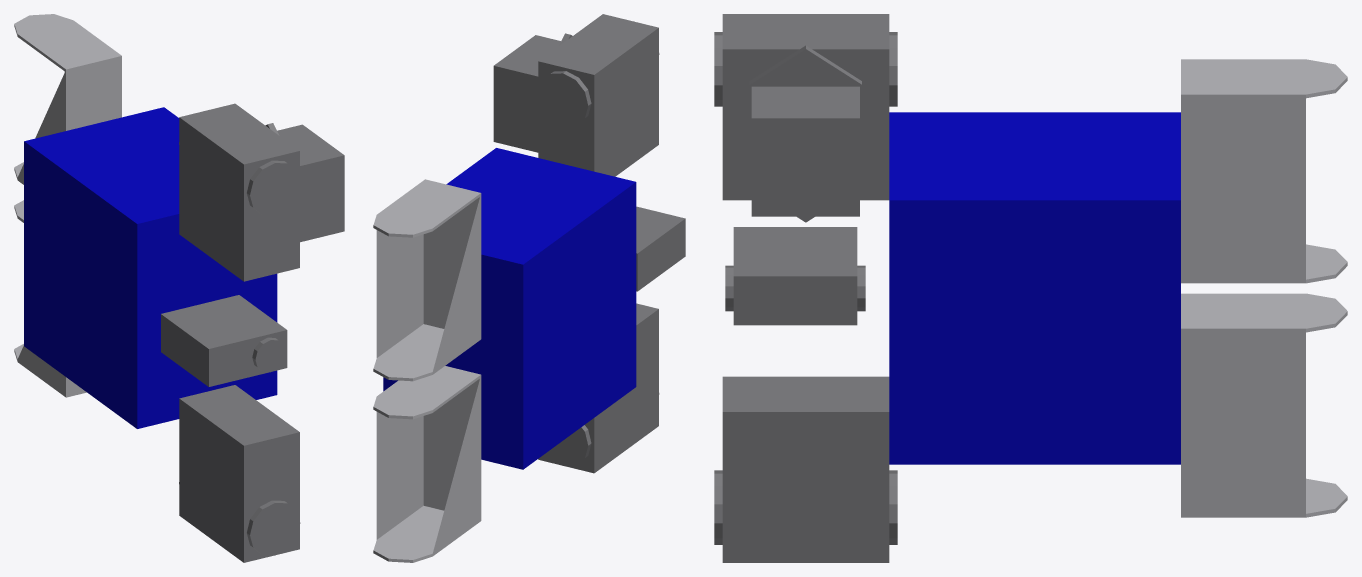
3 renders of one model, left to right at view 1: azimuth 30°, elevation 25°; view 2: azimuth 150°, elevation 25°; view 3: azimuth 270°, elevation 25°, orthographic. The views are drawn at different scales.
Size of the model in its own units: 0.055 by 0.137 by 0.152.
